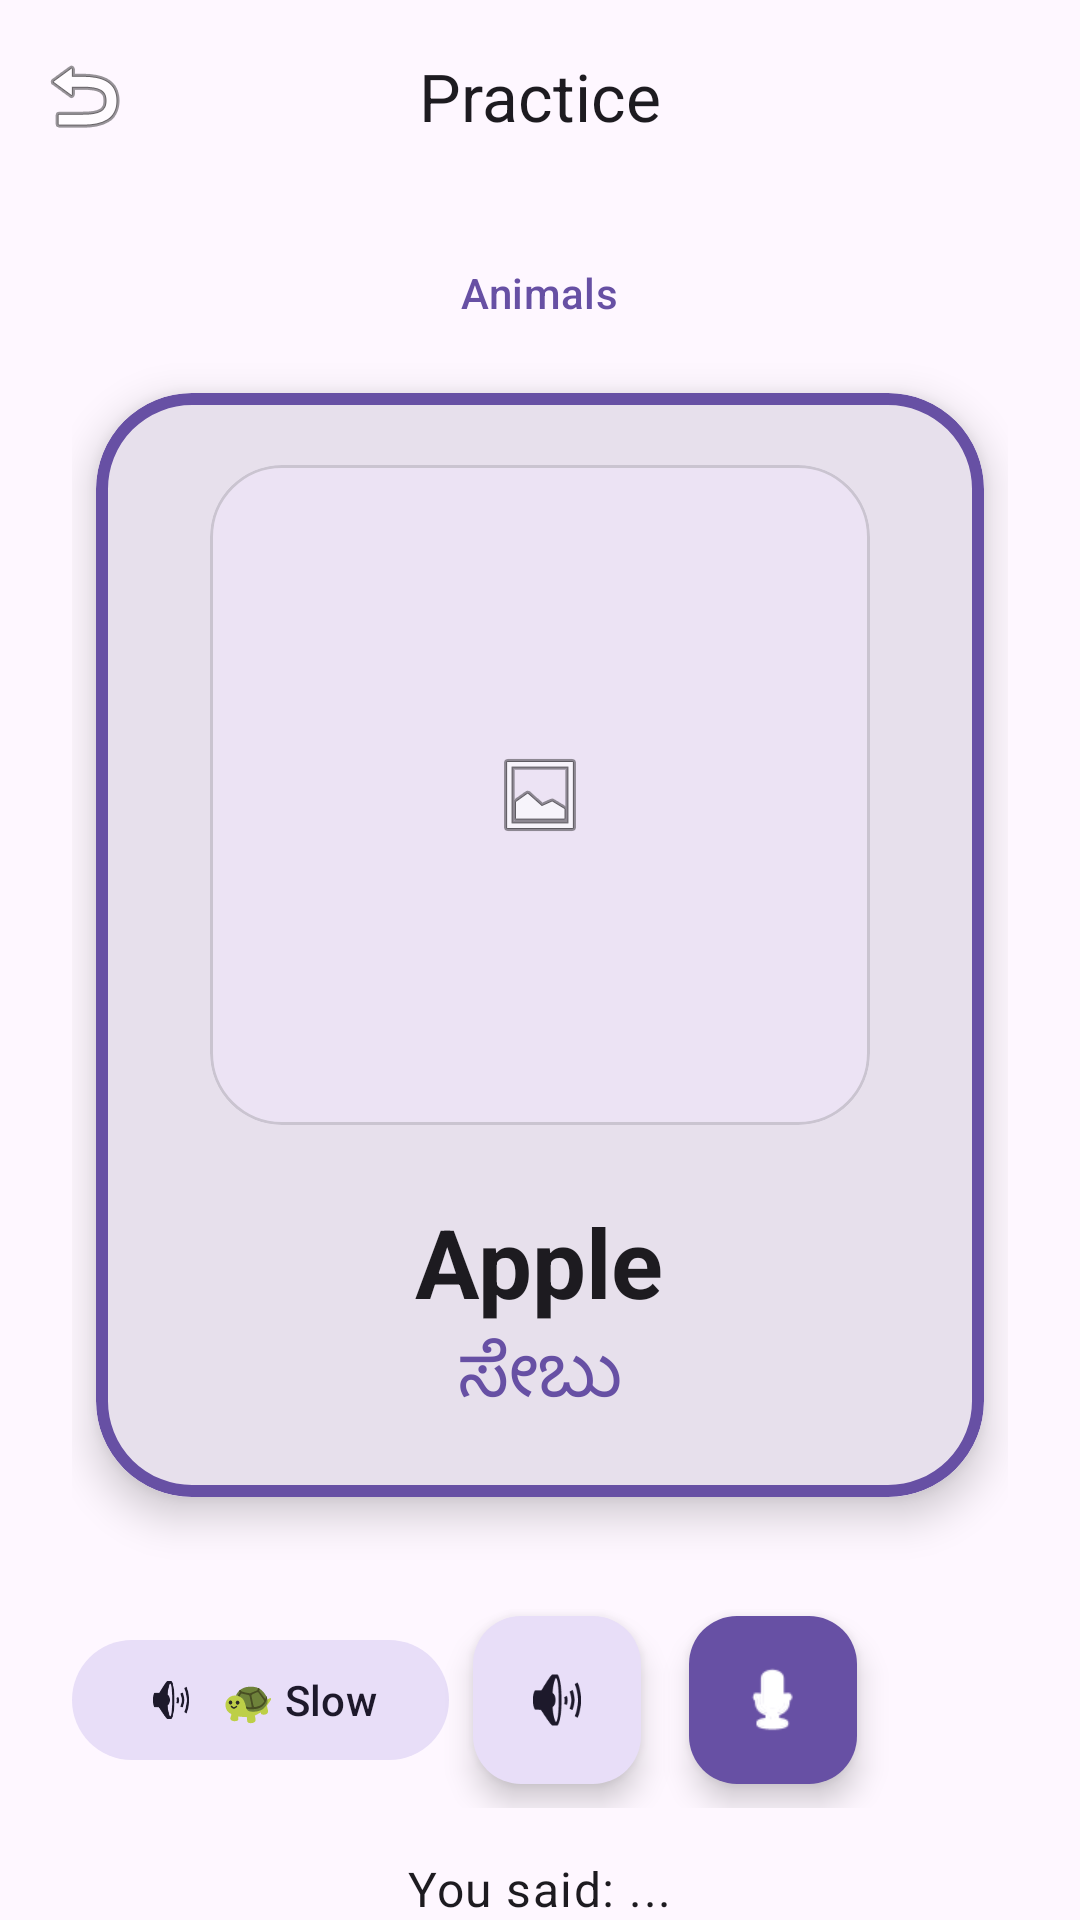

Screen size 1080w x 1920h. Icon name, then its box in pixels as box=[x1, y1, x2, y2]:
Listen: box=[473, 1616, 641, 1784]
Record: box=[689, 1616, 857, 1784]
